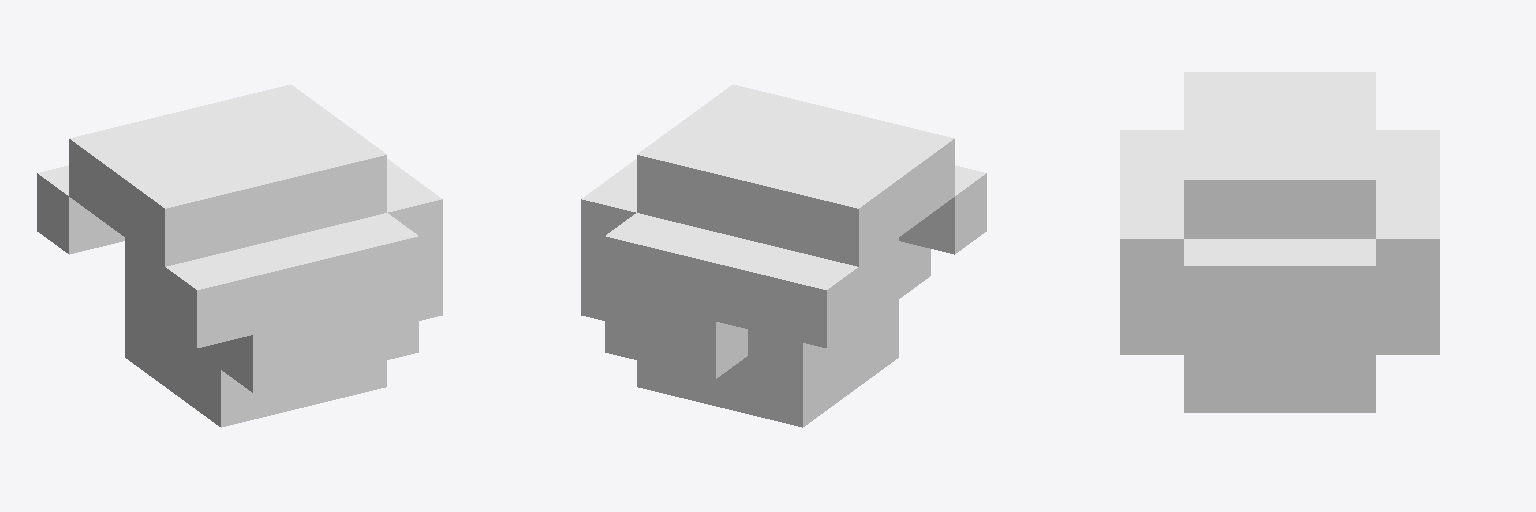
Rendered from Uncle-John-(Head).obj.
3 renders of one model, left to right at view 1: azimuth 30°, elevation 25°; view 2: azimuth 150°, elevation 25°; view 3: azimuth 270°, elevation 25°, orthographic.
Parts seen in each view (by area): view 1: object 1; view 2: object 1; view 3: object 1.
Boxes of the visible parts, x1,y1,x2,y2 form: object 1: [37, 84, 442, 427]; object 1: [581, 84, 986, 427]; object 1: [1120, 72, 1439, 412].
Bounding box in the file's own units: 0.5 × 0.4 × 0.5.